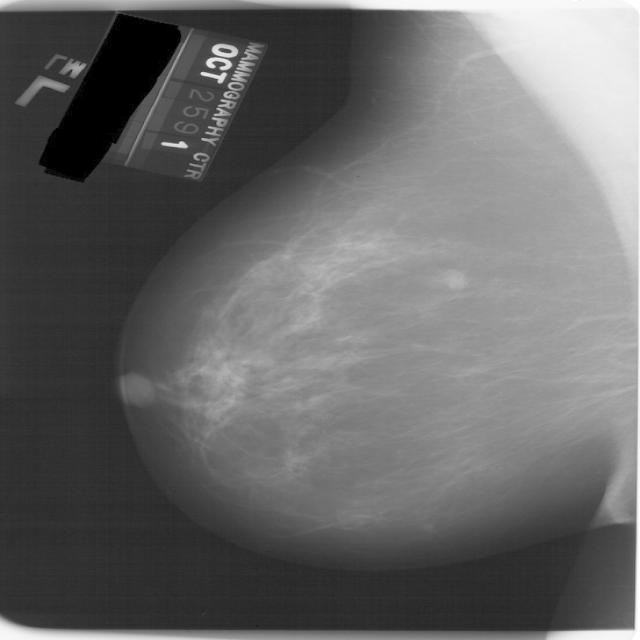tumour: (192, 355, 252, 421)
